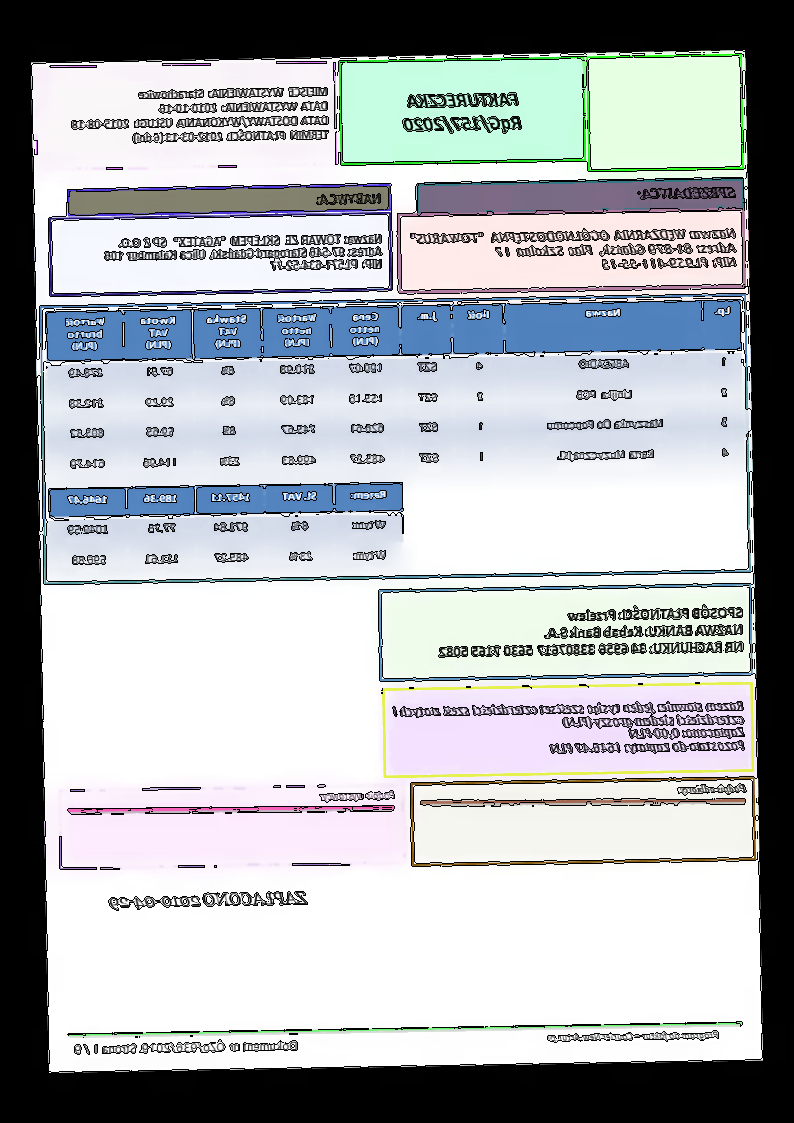Table: (45, 298, 746, 484), (47, 482, 406, 579)
TextBox: (390, 698, 748, 759), (436, 604, 747, 661), (409, 226, 739, 275), (69, 85, 331, 145), (103, 232, 385, 275), (401, 90, 525, 138), (108, 888, 309, 914), (73, 1039, 299, 1057), (546, 1028, 722, 1045), (636, 185, 739, 201), (314, 190, 384, 209), (319, 789, 397, 804), (674, 781, 749, 796)
